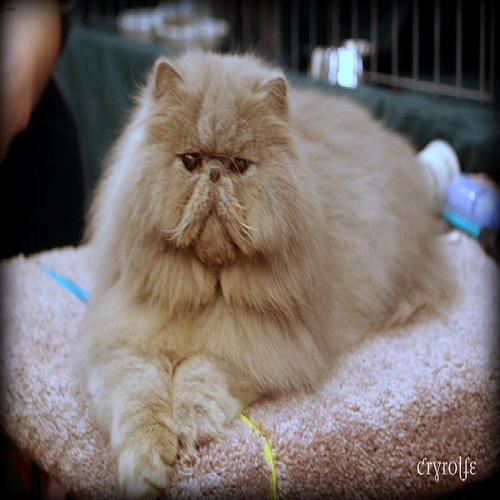persian: (116, 43, 316, 292)
